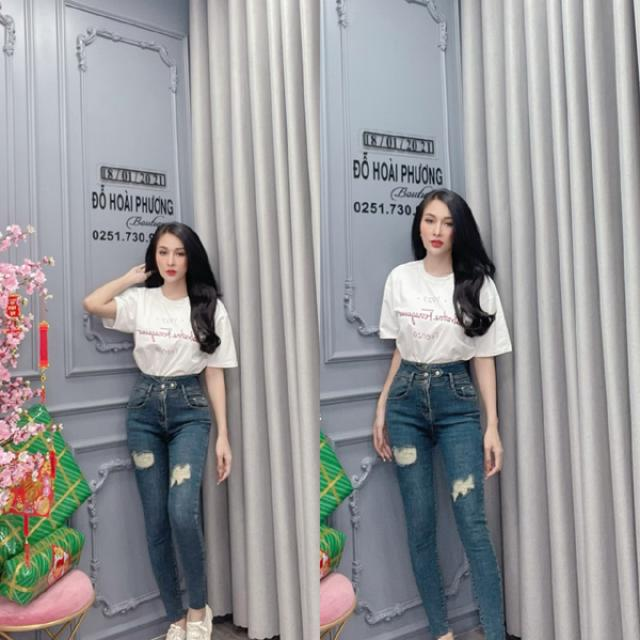clothes: (370, 256, 511, 640), (98, 283, 238, 620)
